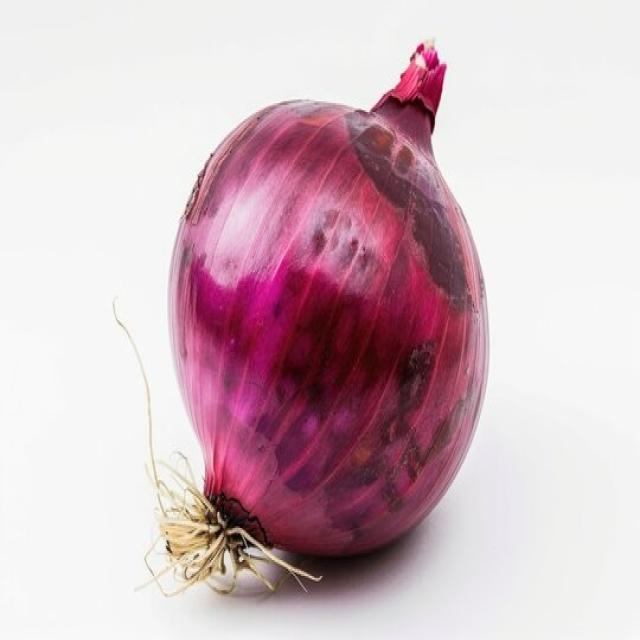Onion: (112, 37, 490, 599)
